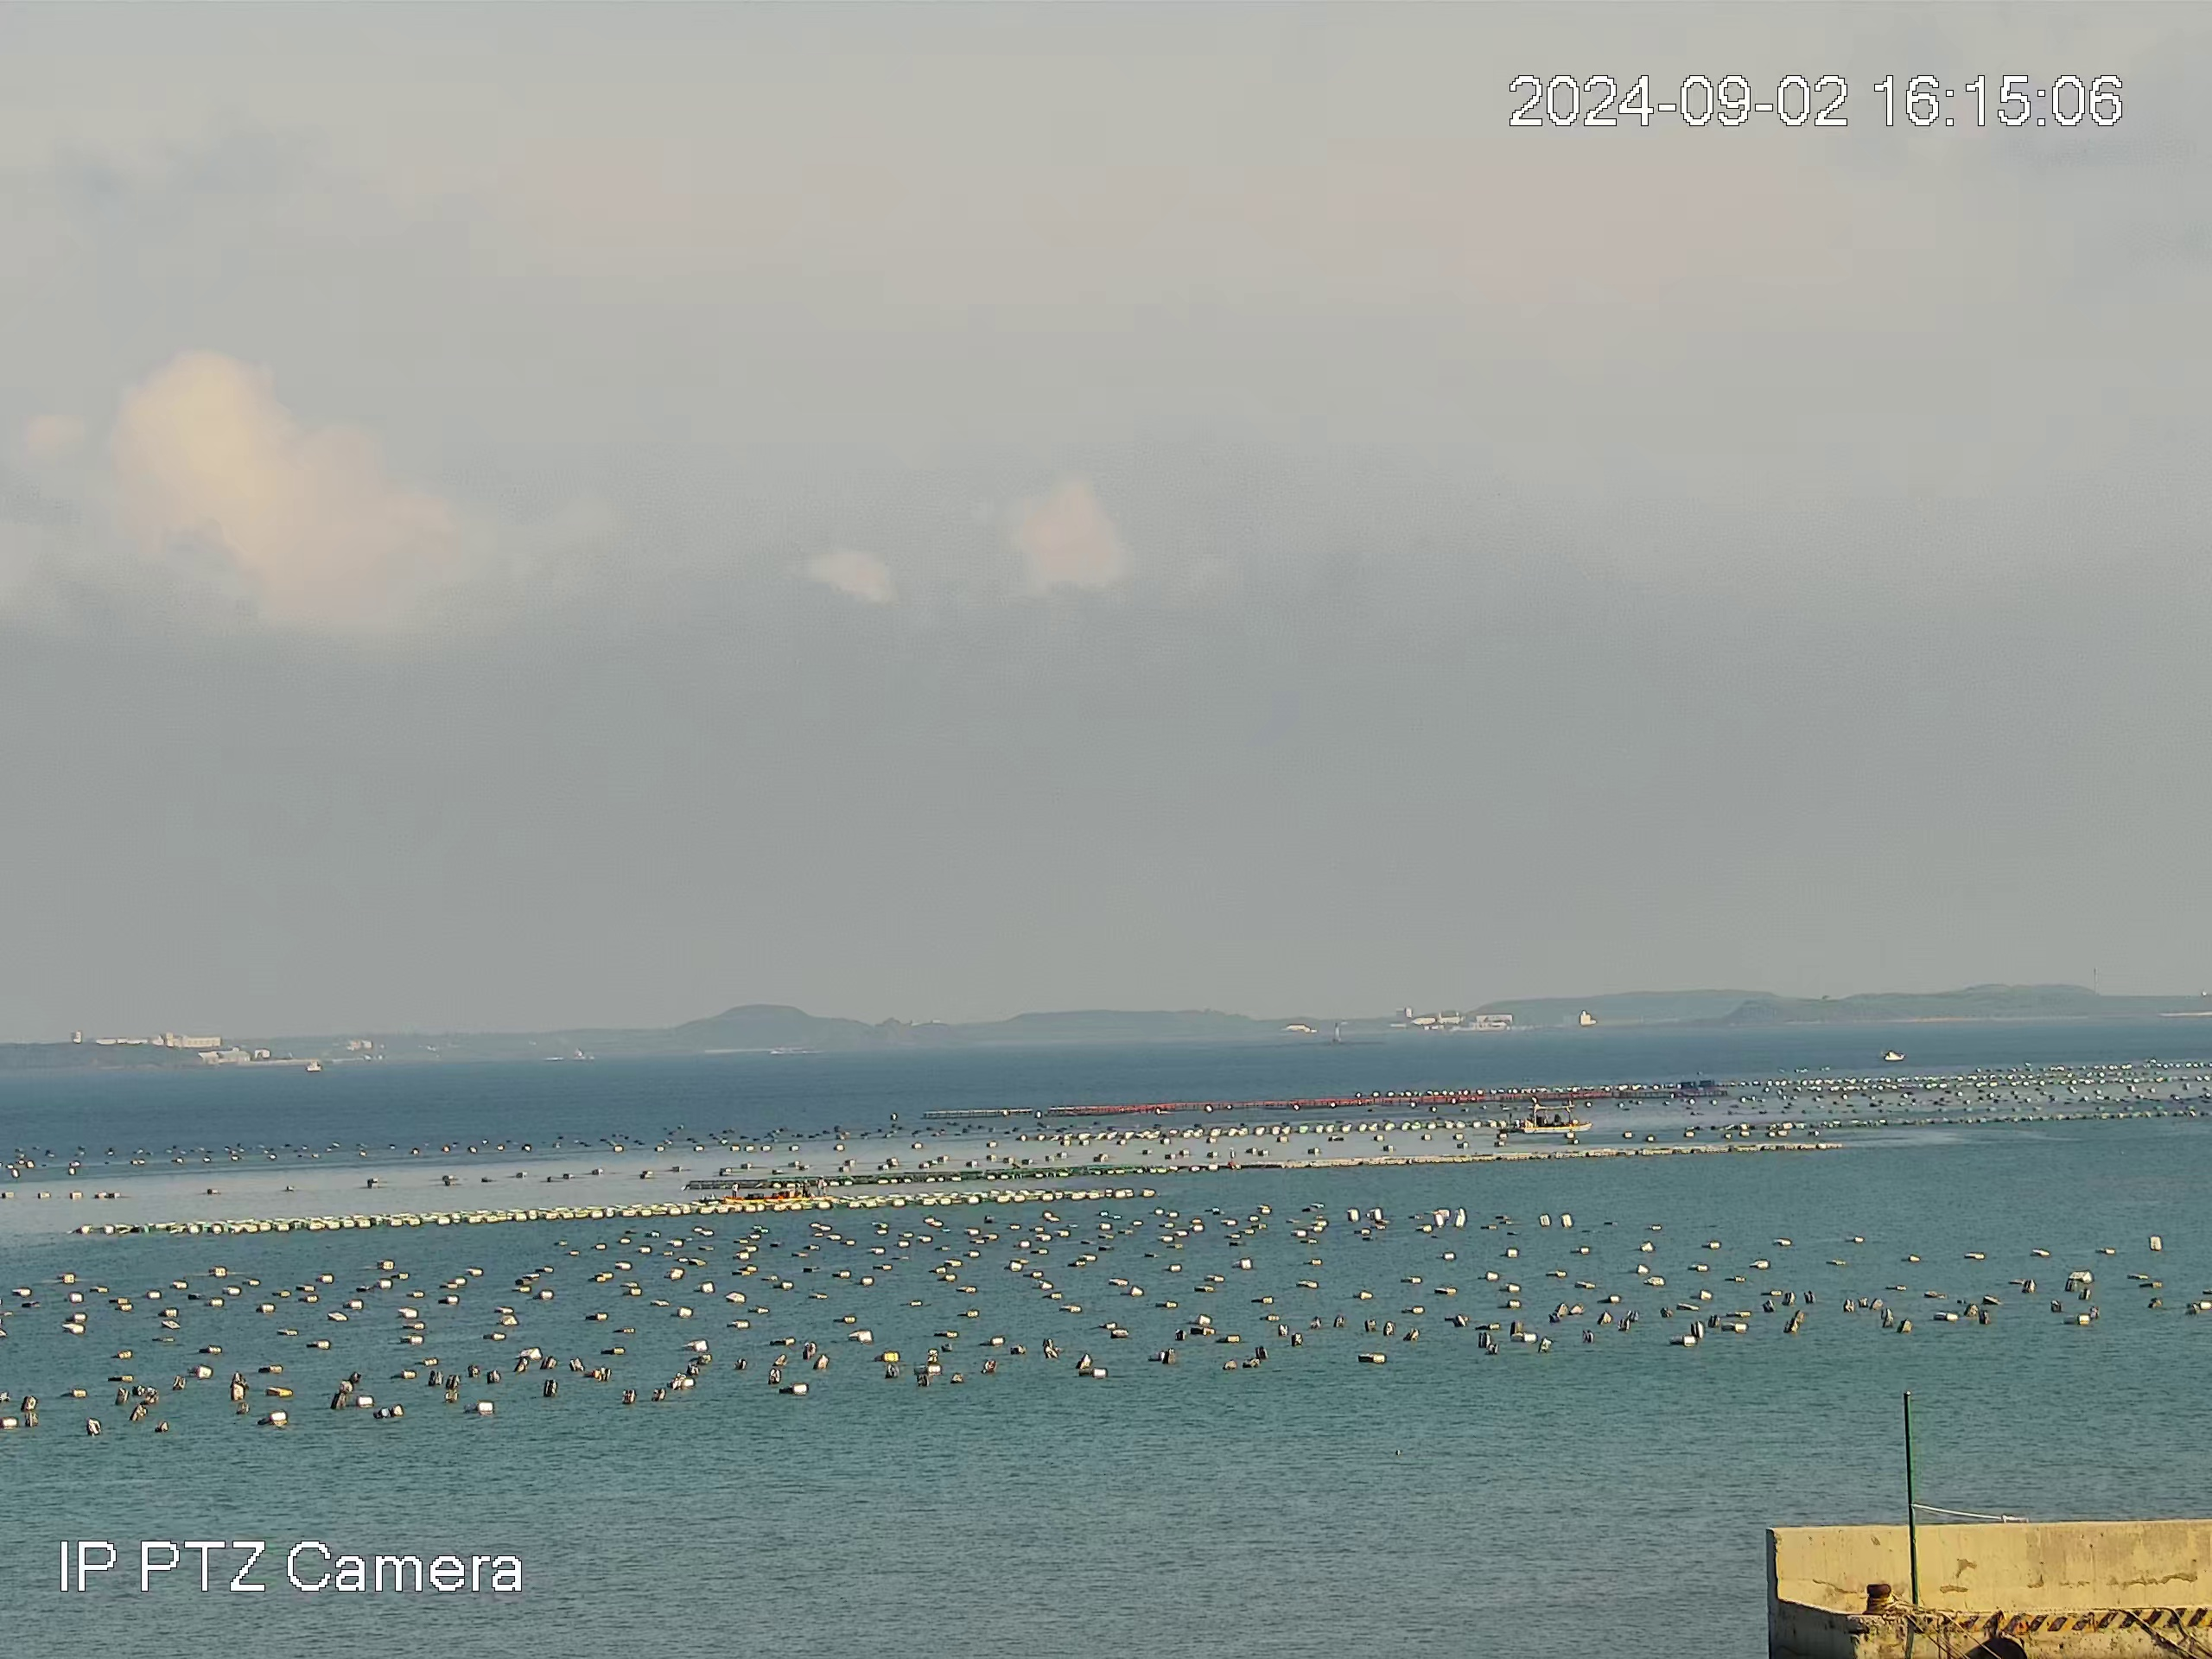boat: (1521, 1103, 1594, 1134), (723, 1180, 813, 1204), (1883, 1049, 1905, 1061)
